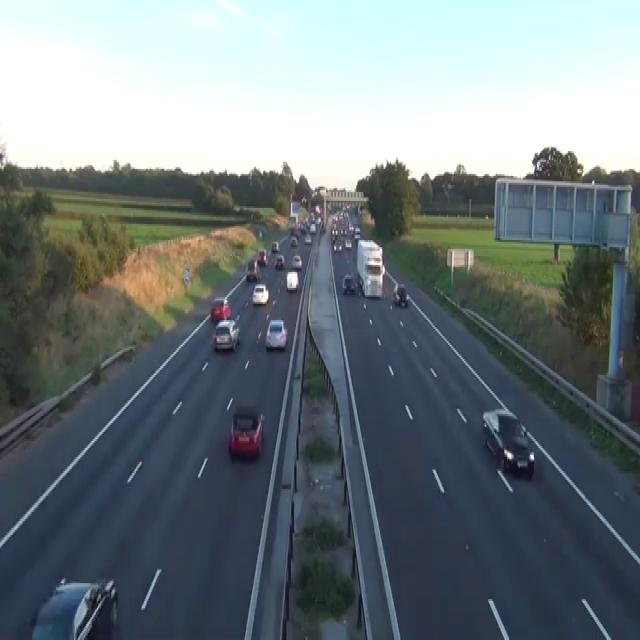Car: (31, 574, 118, 638), (482, 407, 535, 478), (228, 409, 264, 459), (331, 206, 361, 252), (212, 318, 240, 350), (265, 318, 287, 350), (210, 297, 230, 322), (252, 283, 269, 304), (393, 282, 407, 306), (246, 258, 260, 281), (342, 272, 355, 293), (286, 270, 298, 292), (90, 363, 101, 384), (257, 247, 268, 265), (274, 254, 285, 268), (291, 254, 302, 268), (0, 147, 6, 169), (441, 182, 454, 190), (333, 240, 342, 251), (289, 235, 297, 247), (344, 238, 352, 249), (271, 240, 279, 251), (232, 202, 240, 212), (348, 222, 354, 235), (309, 222, 316, 233), (354, 226, 360, 238), (304, 233, 311, 243), (446, 182, 454, 188), (315, 217, 321, 224), (301, 196, 306, 204), (258, 230, 262, 238)
Truck: (356, 238, 384, 299)
